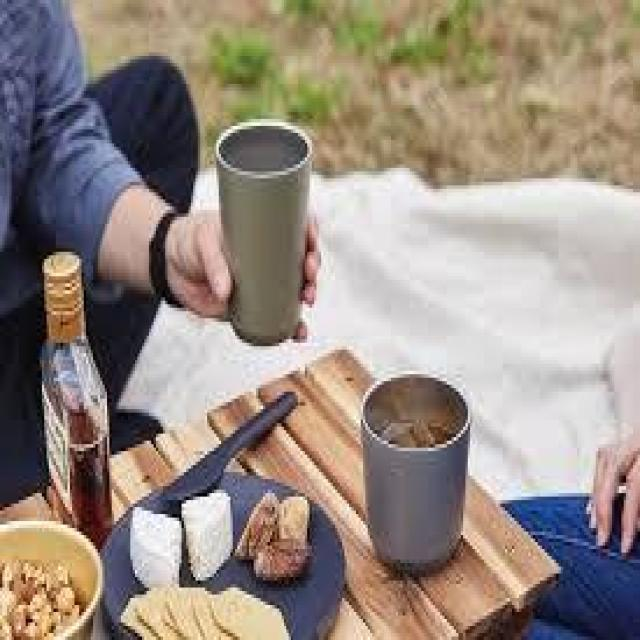bottle: (356, 372, 475, 579), (215, 114, 313, 352)
